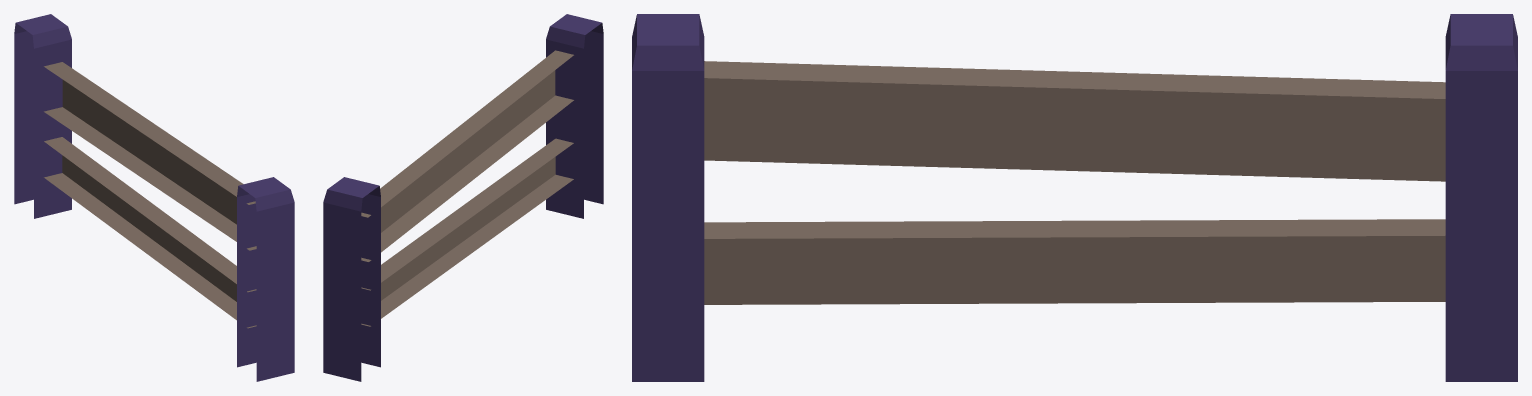
File: normal.fbx
3 views of the same model, side by side, from view 1: azimuth 30°, elevation 25°; view 2: azimuth 150°, elevation 25°; view 3: azimuth 270°, elevation 25° (orthographic). The views are drawn at different scales.
Parts seen in each view (by area): view 1: Cube.001; view 2: Cube.001; view 3: Cube.001.
Part boxes in pixels (x1,y1,x2,y2): Cube.001: (14, 14, 294, 381); Cube.001: (323, 14, 603, 381); Cube.001: (632, 14, 1517, 381).
Bounding box in the file's own units: 43.56 × 200 × 481.
